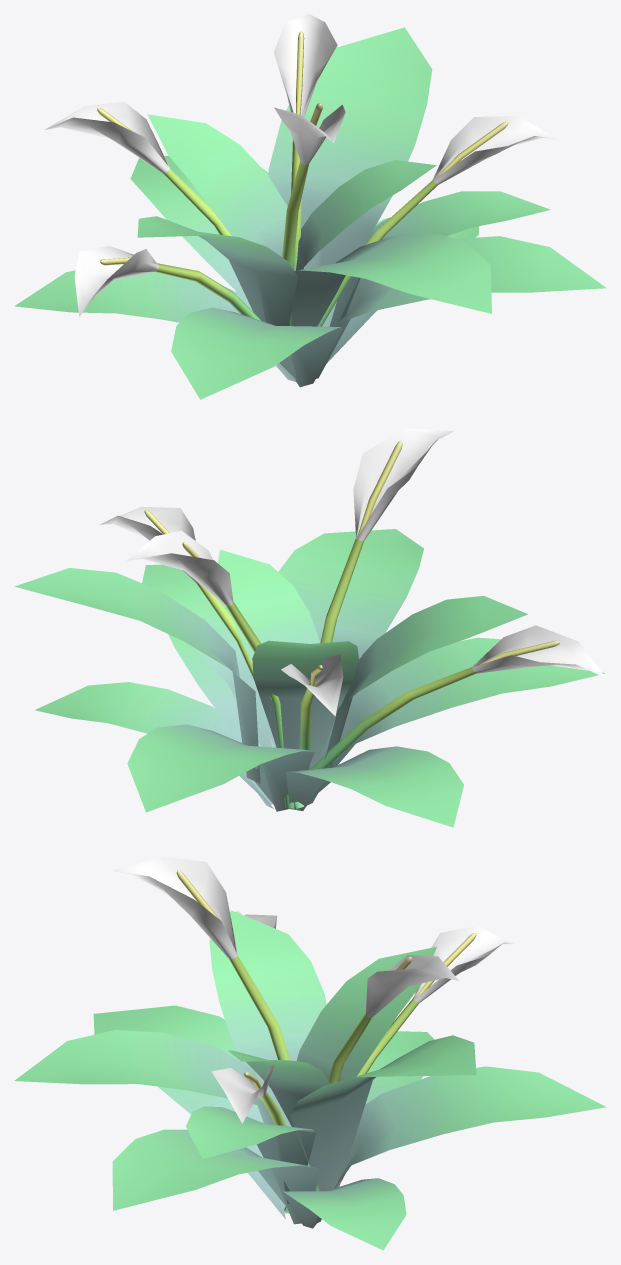
File: Flower.023_Base_Material_0.fbx
The picture shows the model from 3 angles, top to bottom: view 1: azimuth 30°, elevation 25°; view 2: azimuth 150°, elevation 25°; view 3: azimuth 270°, elevation 25°; orthographic projection.
Parts seen in each view (by area): view 1: Flower.023_Base_Material_0_export; view 2: Flower.023_Base_Material_0_export; view 3: Flower.023_Base_Material_0_export.
Boxes of the visible parts, bbox=[...] form: Flower.023_Base_Material_0_export: bbox=[14, 14, 606, 399]; Flower.023_Base_Material_0_export: bbox=[14, 428, 606, 827]; Flower.023_Base_Material_0_export: bbox=[14, 856, 606, 1250].
Bounding box in the file's own units: 3.05 × 1.96 × 3.22.
